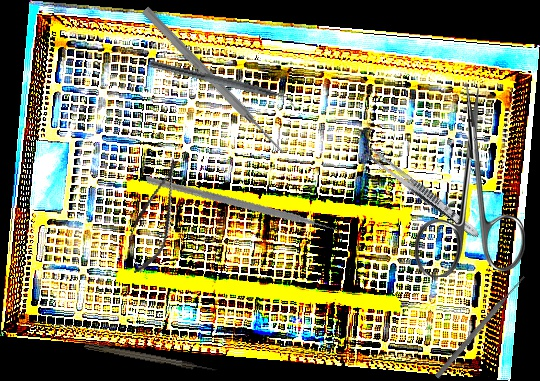Chopper: (145, 126, 345, 297), (146, 59, 303, 113)
Dressing Forceps: (363, 146, 483, 241)
Hook Surgical: (84, 341, 217, 375)
Iris Scissors: (415, 86, 525, 277)
Micro Scissor: (117, 152, 194, 280)
Pusher: (139, 5, 289, 158), (433, 274, 528, 380)
